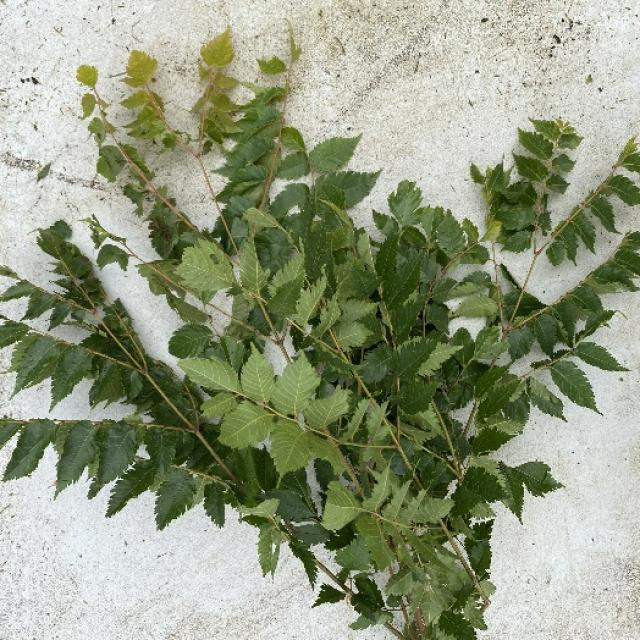organik: (14, 23, 610, 625)
